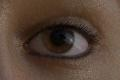eye: (43, 25, 74, 54)
